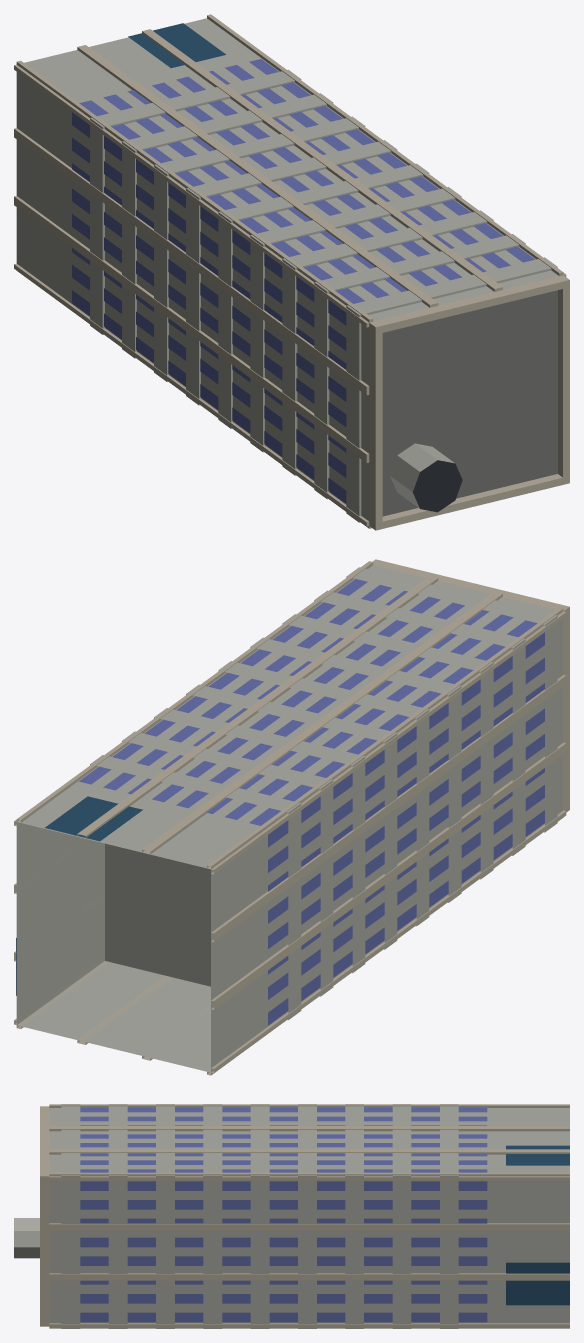
Rendered from construction_2.glb.
3 renders of one model, top to bottom at view 1: azimuth 30°, elevation 25°; view 2: azimuth 150°, elevation 25°; view 3: azimuth 270°, elevation 25°, orthographic. The views are drawn at different scales.
Visible parts, largest first — view 1: construction_2; view 2: construction_2; view 3: construction_2.
Boxes of the visible parts, <box> form: construction_2: <box>14,14,569,530</box>; construction_2: <box>14,559,569,1075</box>; construction_2: <box>14,1104,569,1328</box>.
Bounding box in the file's own units: 14.4 × 14.4 × 47.
